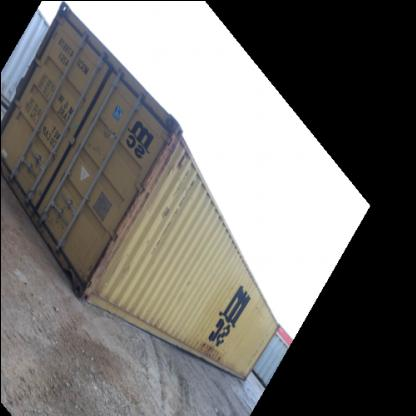Damage: (82, 232, 110, 291), (192, 332, 226, 360), (154, 120, 178, 154), (249, 298, 265, 322), (158, 202, 171, 224)
